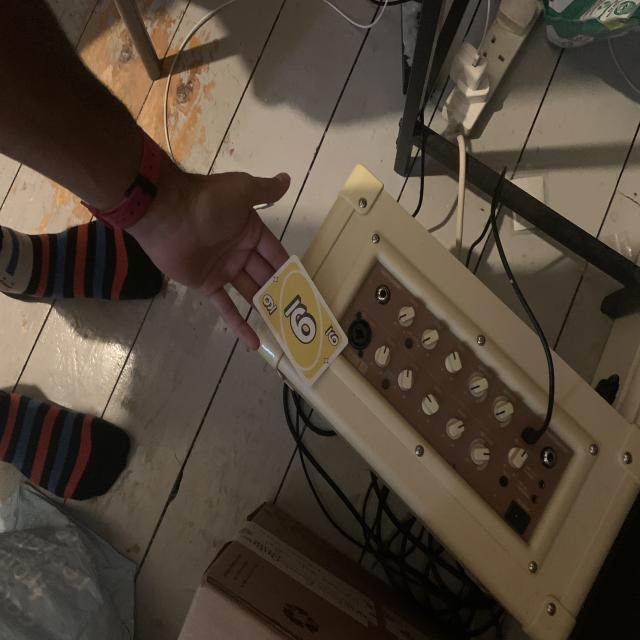lyellow-9: (257, 286, 283, 320)
